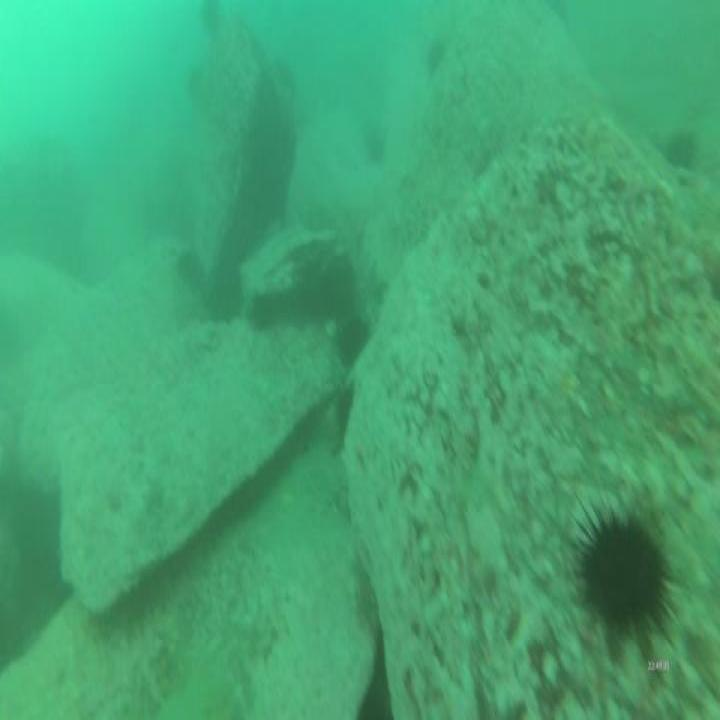echinus: (567, 487, 677, 656), (334, 316, 374, 372), (330, 379, 356, 455), (661, 128, 699, 178), (173, 242, 209, 292), (358, 119, 388, 173), (244, 288, 274, 338), (424, 34, 447, 85), (198, 0, 224, 44)
